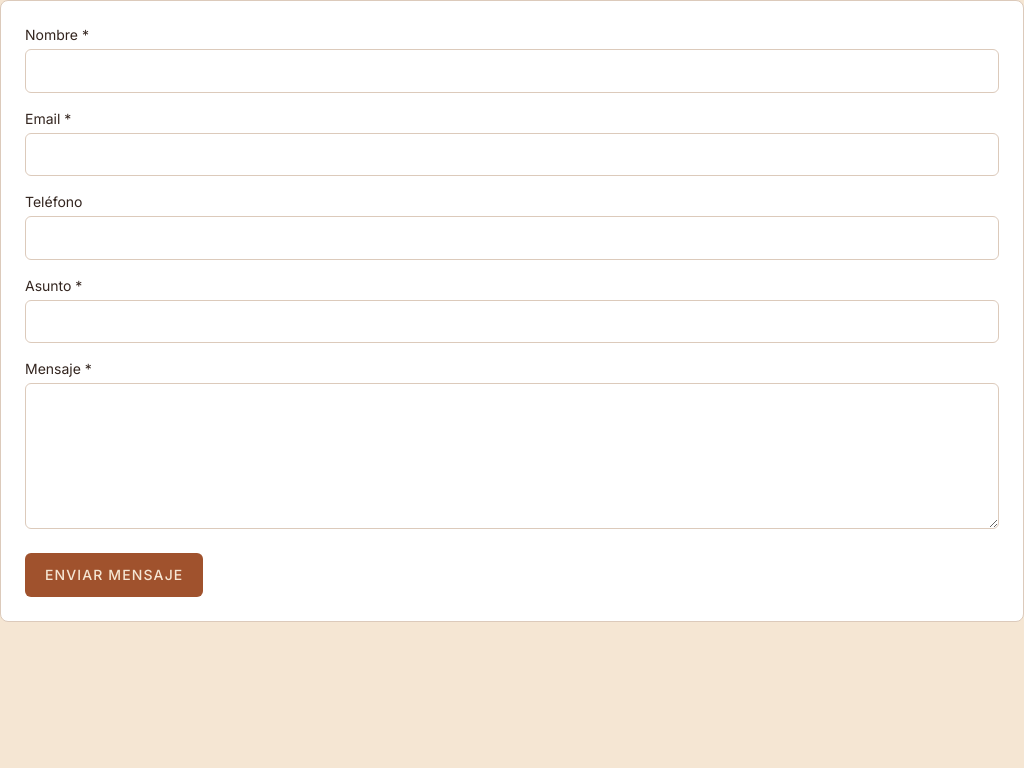
Test case: ContactForm › asunto corto y mensaje corto fallan
In the field labelled "Nombre *": (512, 71) top-left (25, 49), bottom-right (999, 93), type "Ana"
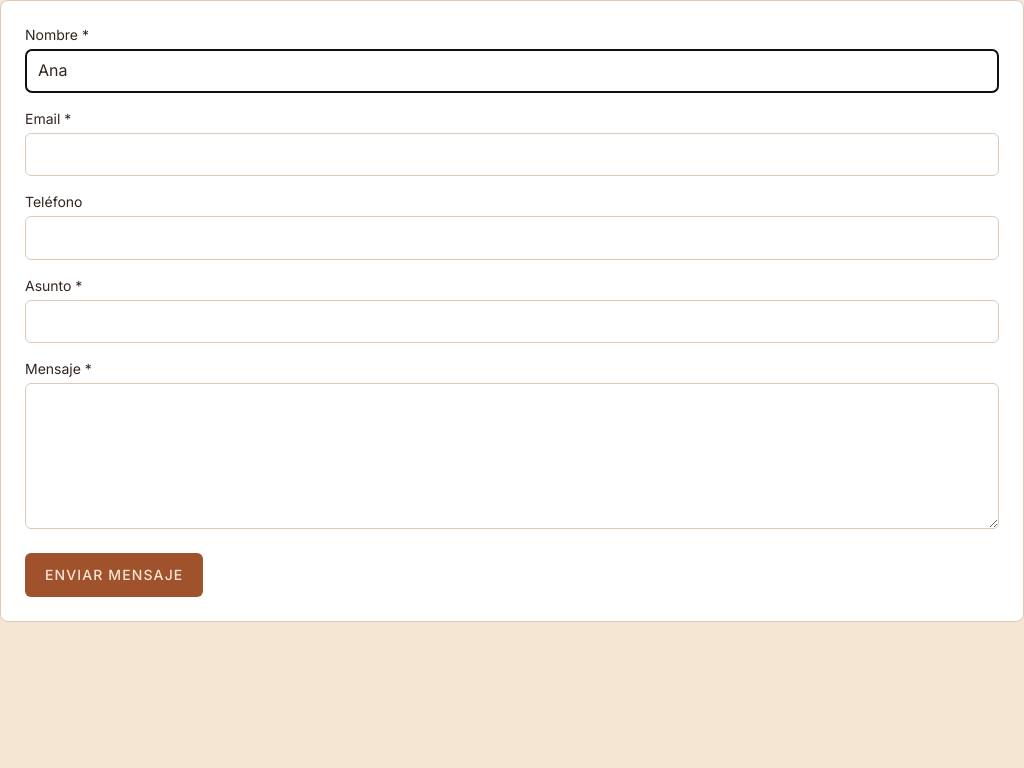
In the field labelled "Email *": (512, 154) top-left (25, 133), bottom-right (999, 176), type "ana@correo.com"
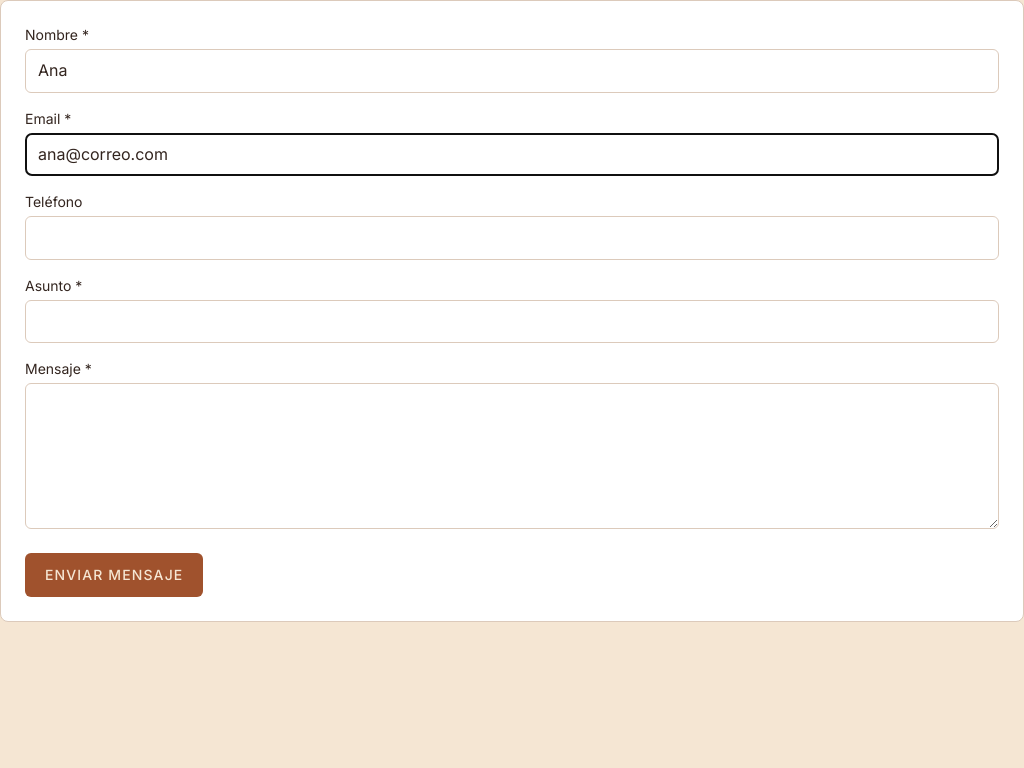
In the field labelled "Asunto *": (512, 322) top-left (25, 300), bottom-right (999, 343), type "Hola"
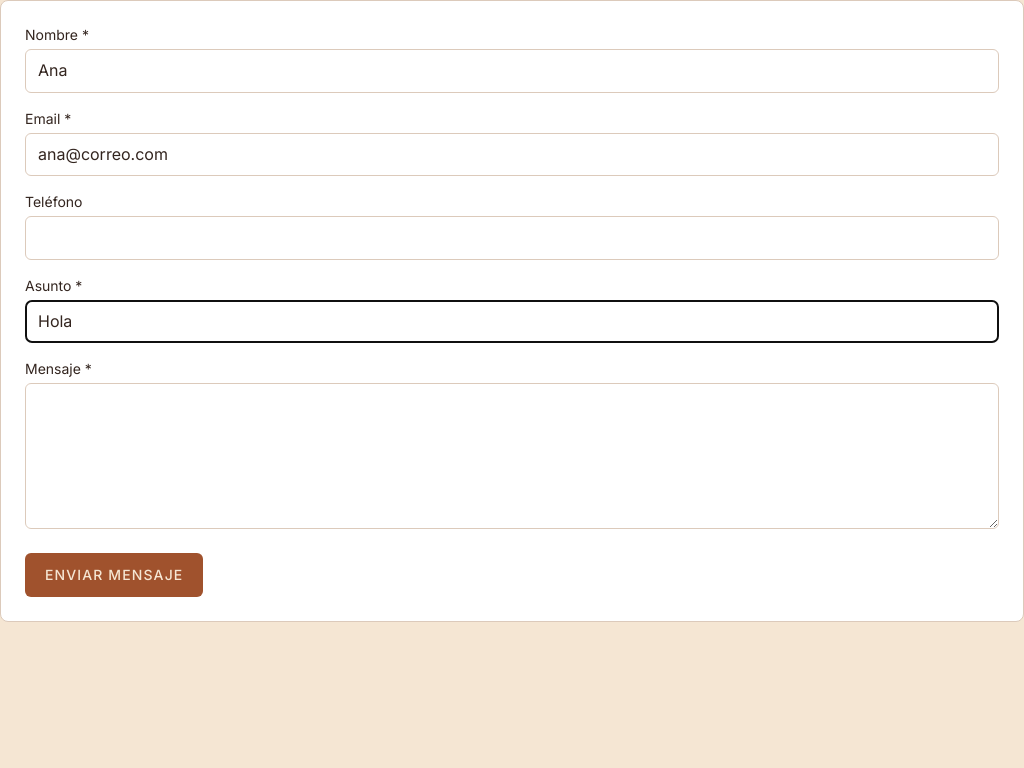
In the text box labelled "Mensaje *": (512, 456) top-left (25, 383), bottom-right (999, 529), type "Corto"
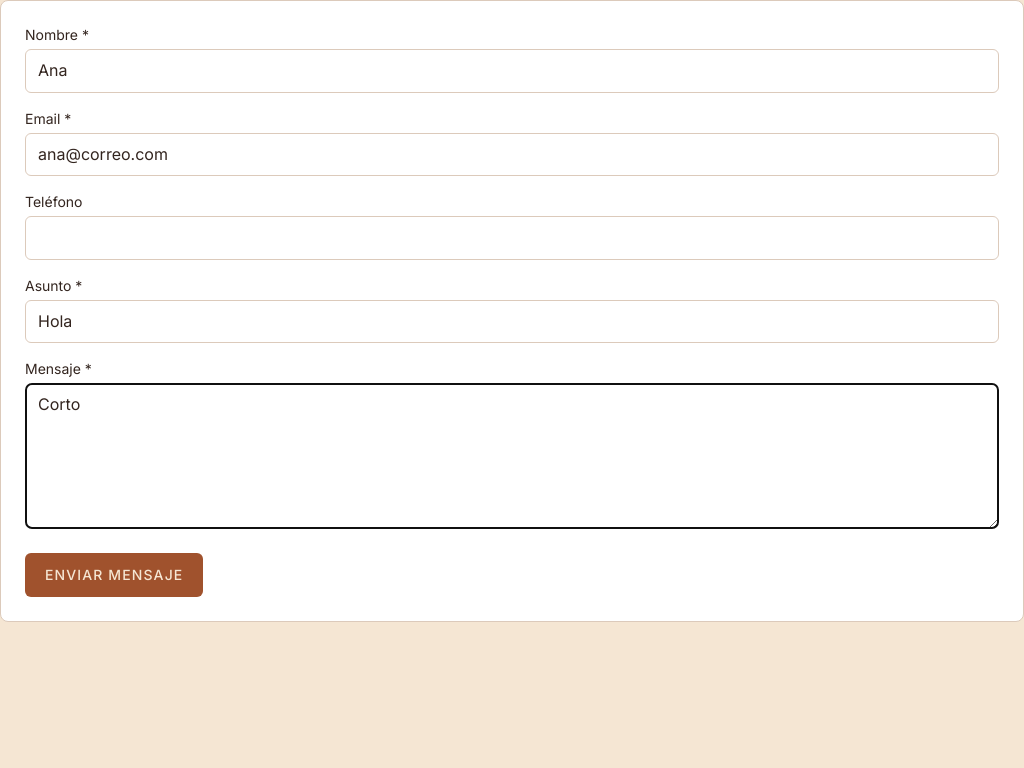
Click the button "Enviar mensaje": click(114, 575) top-left (25, 553), bottom-right (203, 597)
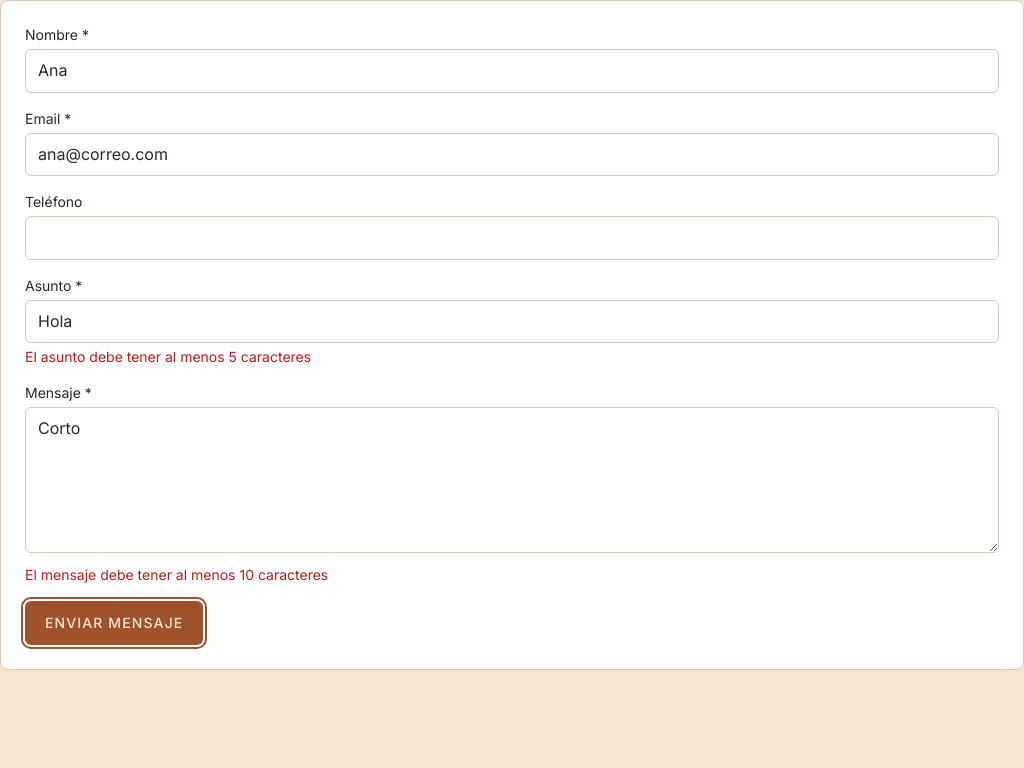
Check: the text "El asunto debe tener al menos 5 caracteres" is shown, box top-left (25, 348), bottom-right (311, 365)
Check: the text "El mensaje debe tener al menos 10 caracteres" is shown, box top-left (25, 566), bottom-right (328, 583)
